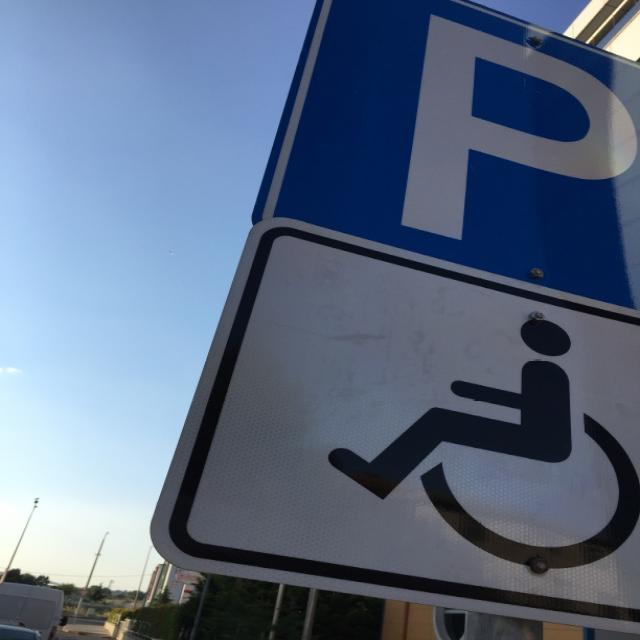park: (244, 1, 640, 241)
